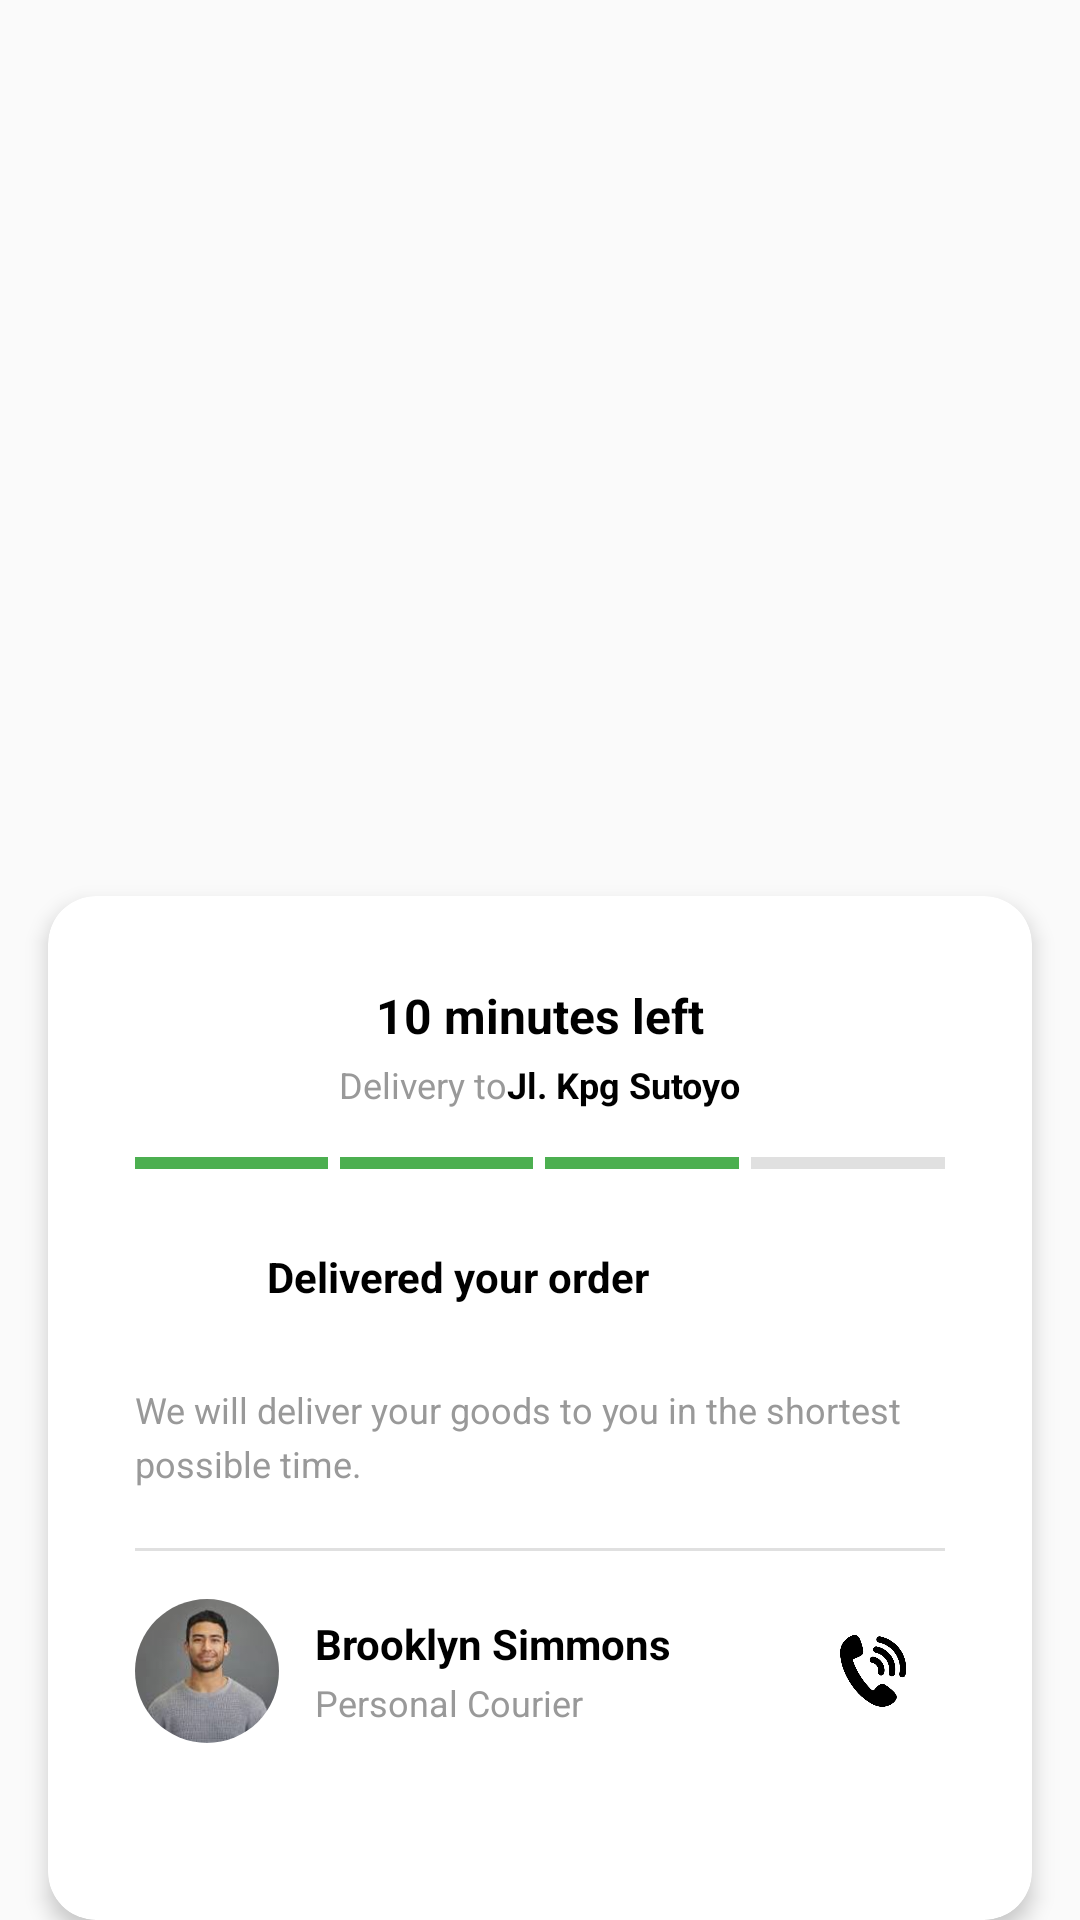

Where icons sit on this 1080*1920 app screen, as (x1, y1, x2, y2):
Call: (840, 1635, 906, 1707)
